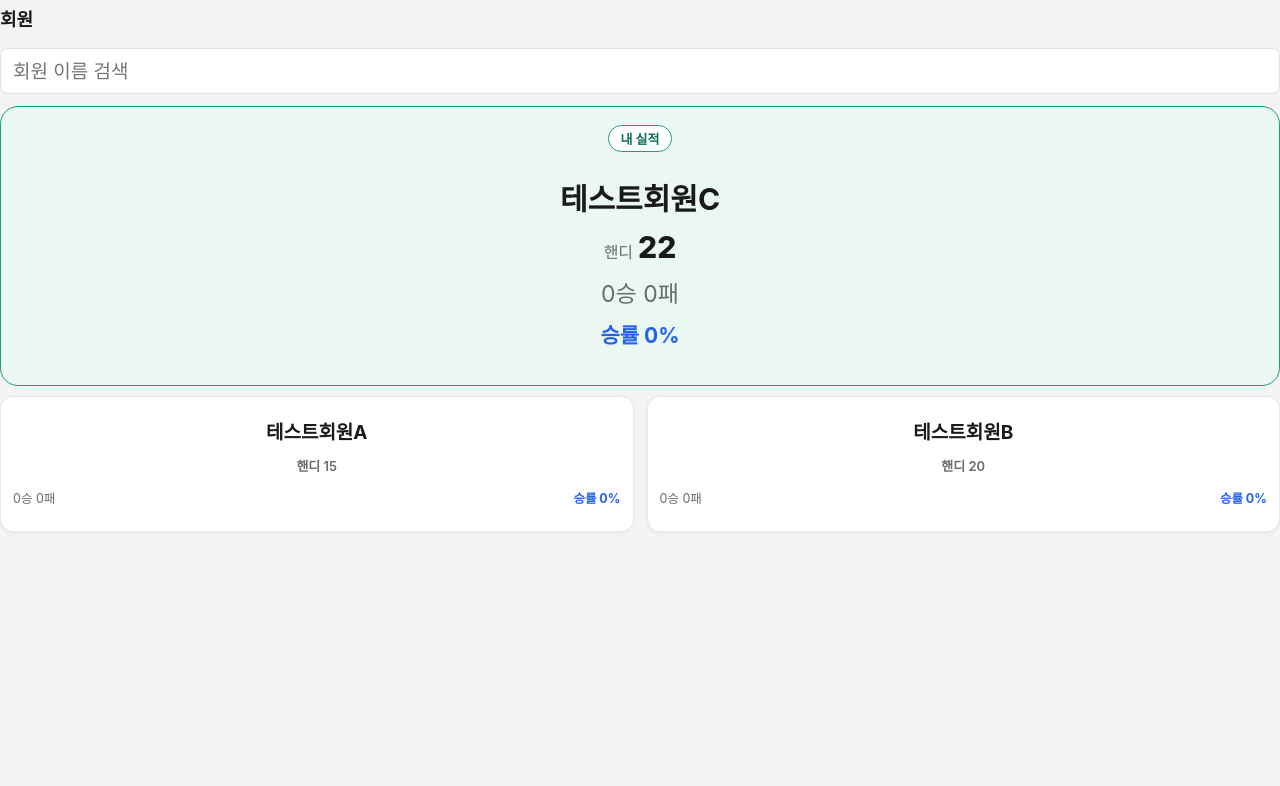
회원 상세 — 다른 회원의 핸디 변경 이력 › 다른 회원 이름을 누르면 핸디 변경 이력이 표시된다
Click the text "테스트회원A" at (317, 434), box [266,421,368,446]
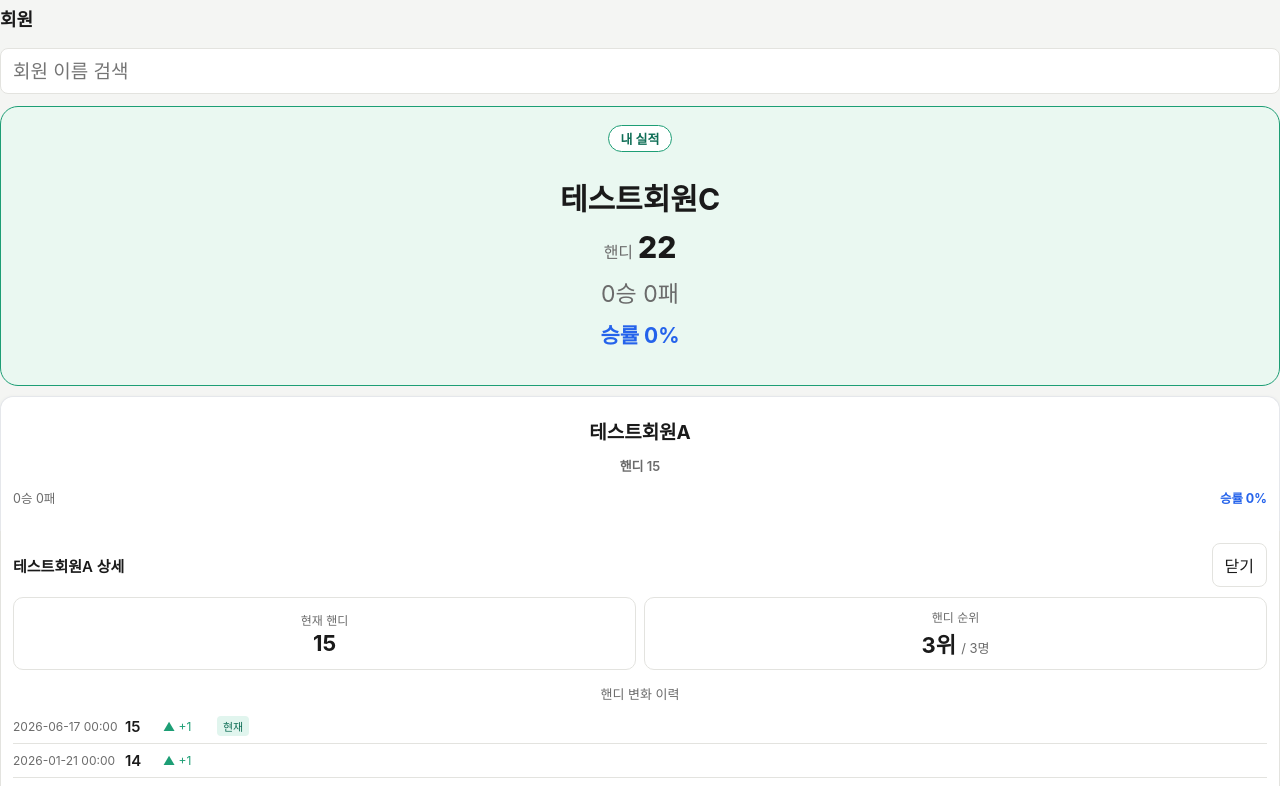
Expected: the text "핸디 변화 이력" is shown, [600,686,680,702]
Expected: the text "2026-06-17 00:00" is shown, [13,718,118,734]
Expected: the text "2026-01-21 00:00" is shown, [13,753,115,768]
